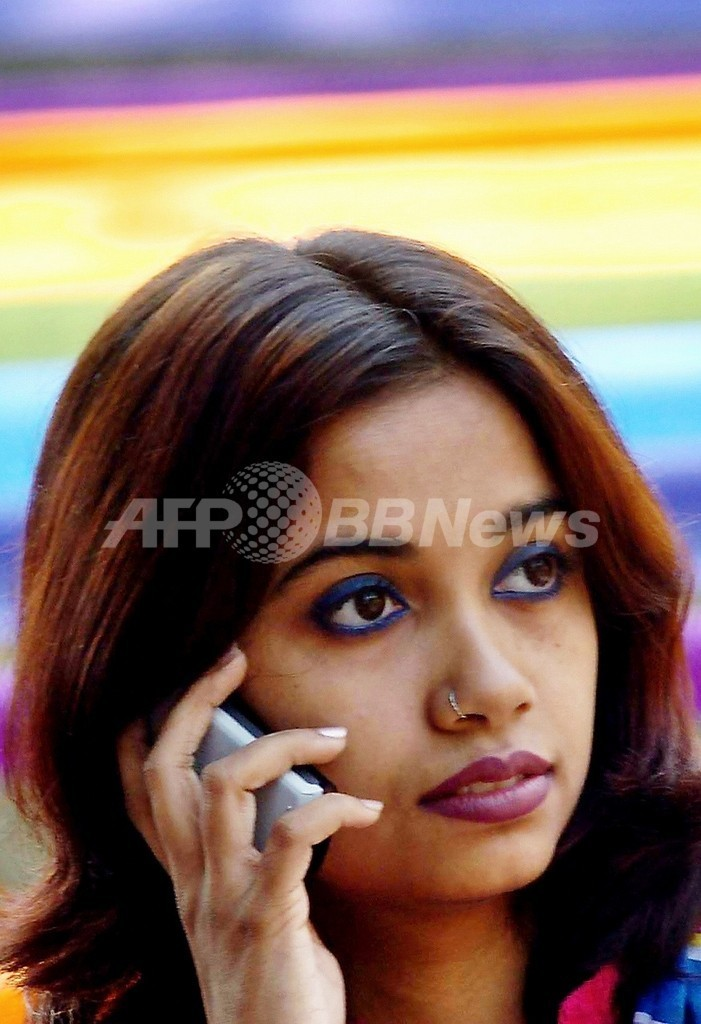phone: (103, 641, 390, 929)
talk: (103, 476, 598, 1024)
